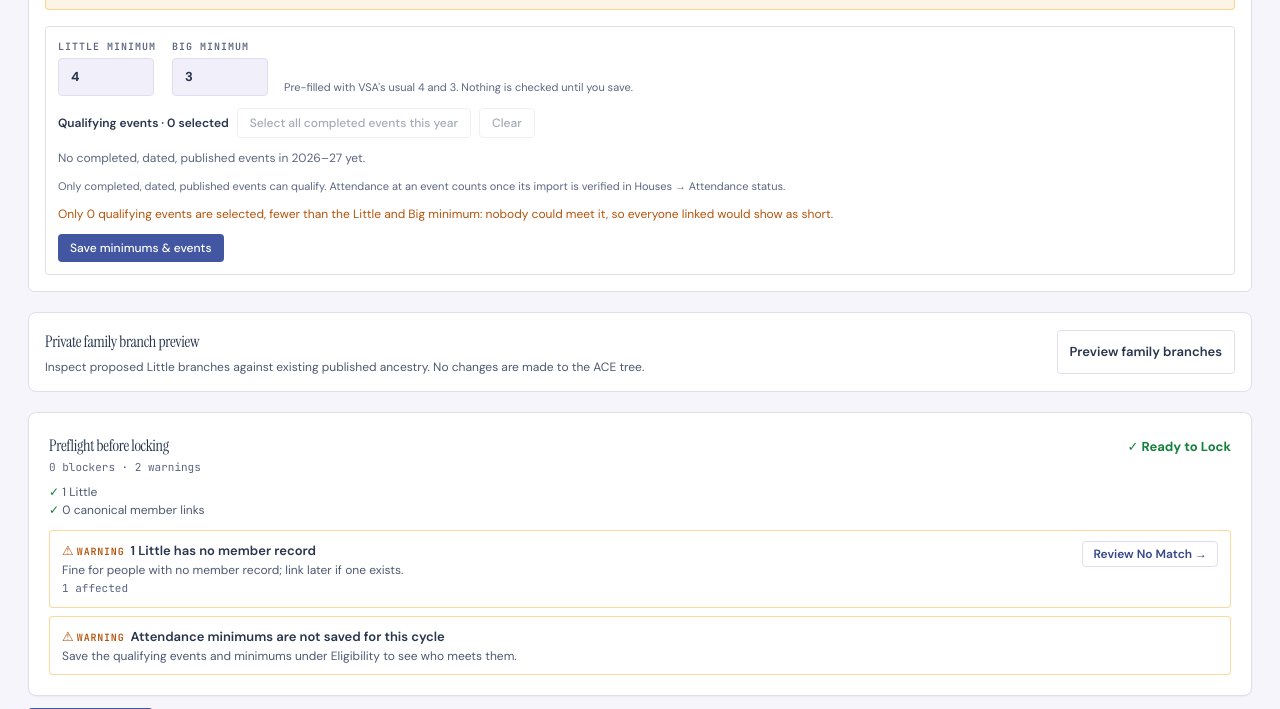
it: admin-only branch preview (#665) › fails closed when the private family list cannot be read
(page scrolled)
Click the button "Preview family branches" at (1146, 352), box top-left (1056, 330), bottom-right (1235, 374)
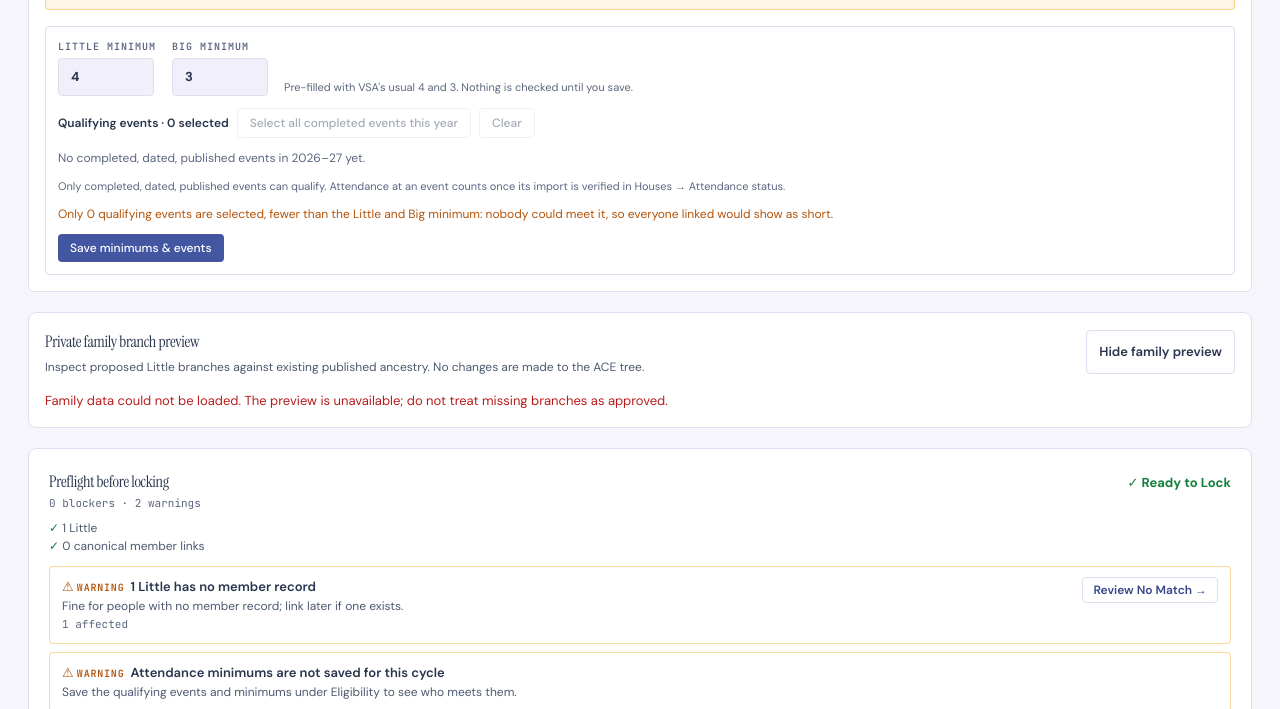
Expected: the message shows "Family data could not be loaded", top-left (45, 392), bottom-right (668, 409)
